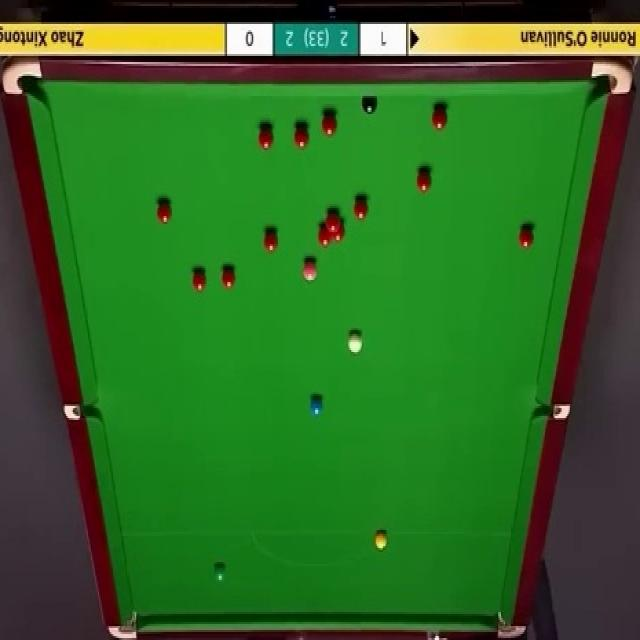black-ball: (362, 98, 378, 114)
blue-ball: (311, 396, 324, 417)
green-ball: (214, 565, 225, 584)
pink-ball: (302, 260, 320, 282)
red-ball: (352, 195, 370, 222), (155, 198, 173, 225), (415, 168, 433, 194), (293, 123, 310, 149), (431, 107, 448, 132), (325, 206, 340, 234), (322, 112, 338, 138), (192, 268, 208, 294), (317, 224, 334, 248), (518, 226, 535, 248), (264, 230, 278, 254), (258, 128, 274, 149), (220, 268, 236, 288), (331, 219, 344, 242)
white-ball: (348, 330, 363, 354)
yellow-ball: (374, 530, 390, 550)
